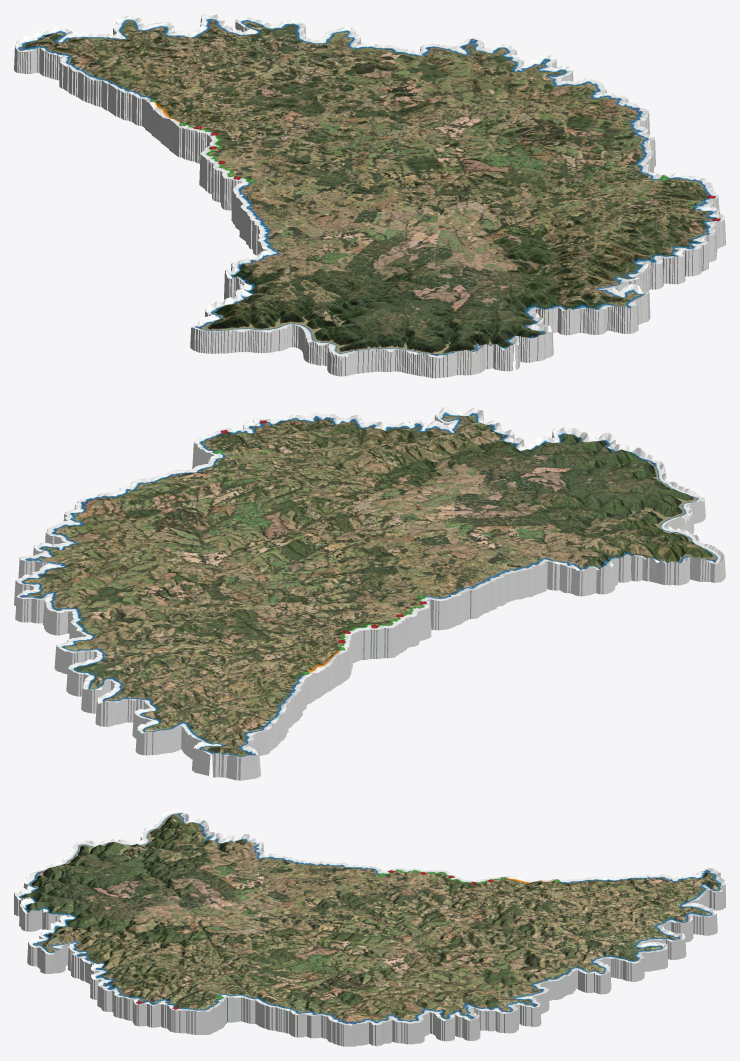
3 views of the same model, one above another, from view 1: azimuth 30°, elevation 25°; view 2: azimuth 150°, elevation 25°; view 3: azimuth 270°, elevation 25° (orthographic). The views are drawn at different scales.
Size of the model in its own units: 0.9998 by 0.0541 by 1.37.
Materials: 1 (1 with a texture image).
